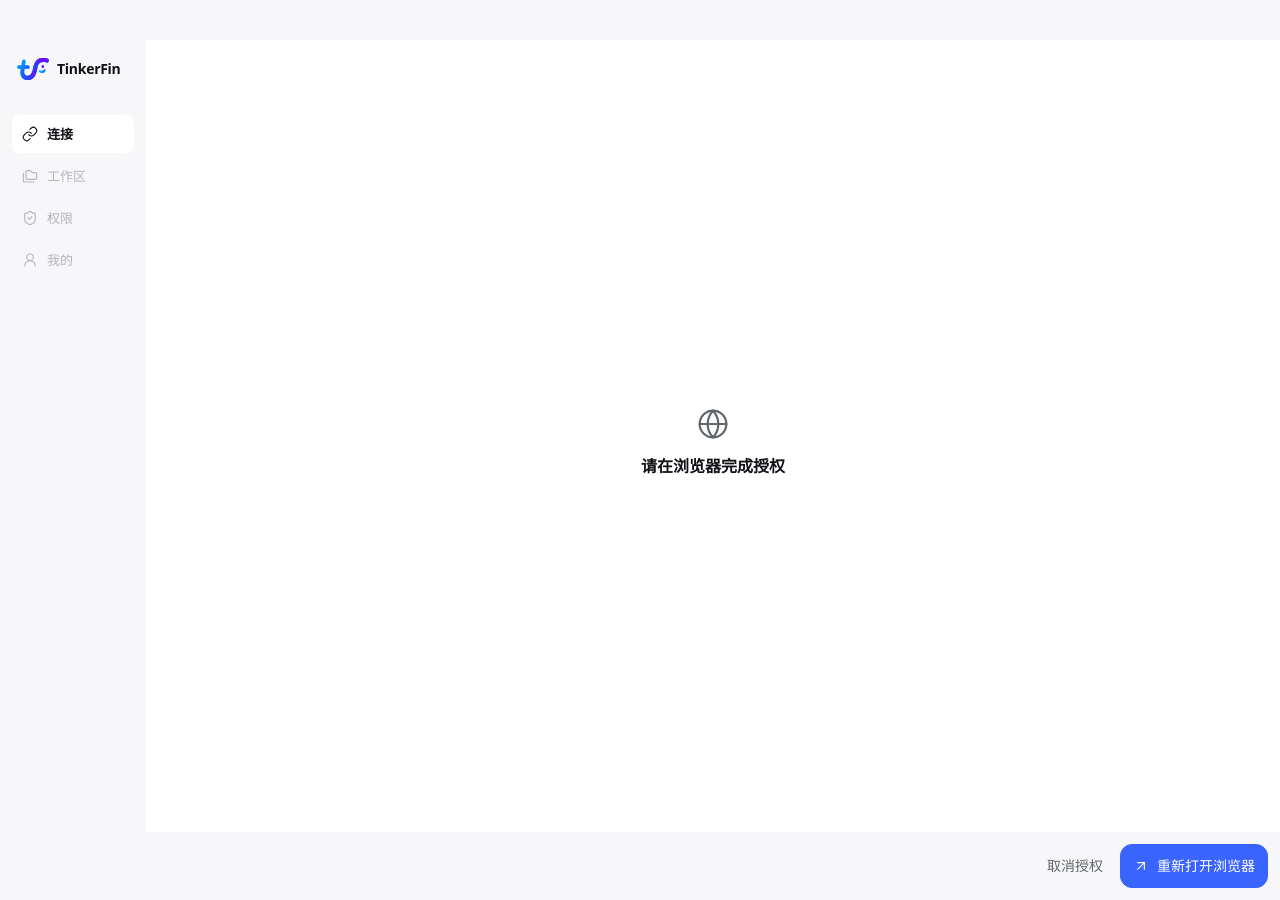
桌面真实动作边界 › 取消授权后返回连接表单并保留输入
This screenshot has width=1280, height=900.
Click the button "取消授权".
click(1075, 866)  # box [1038,844,1112,888]
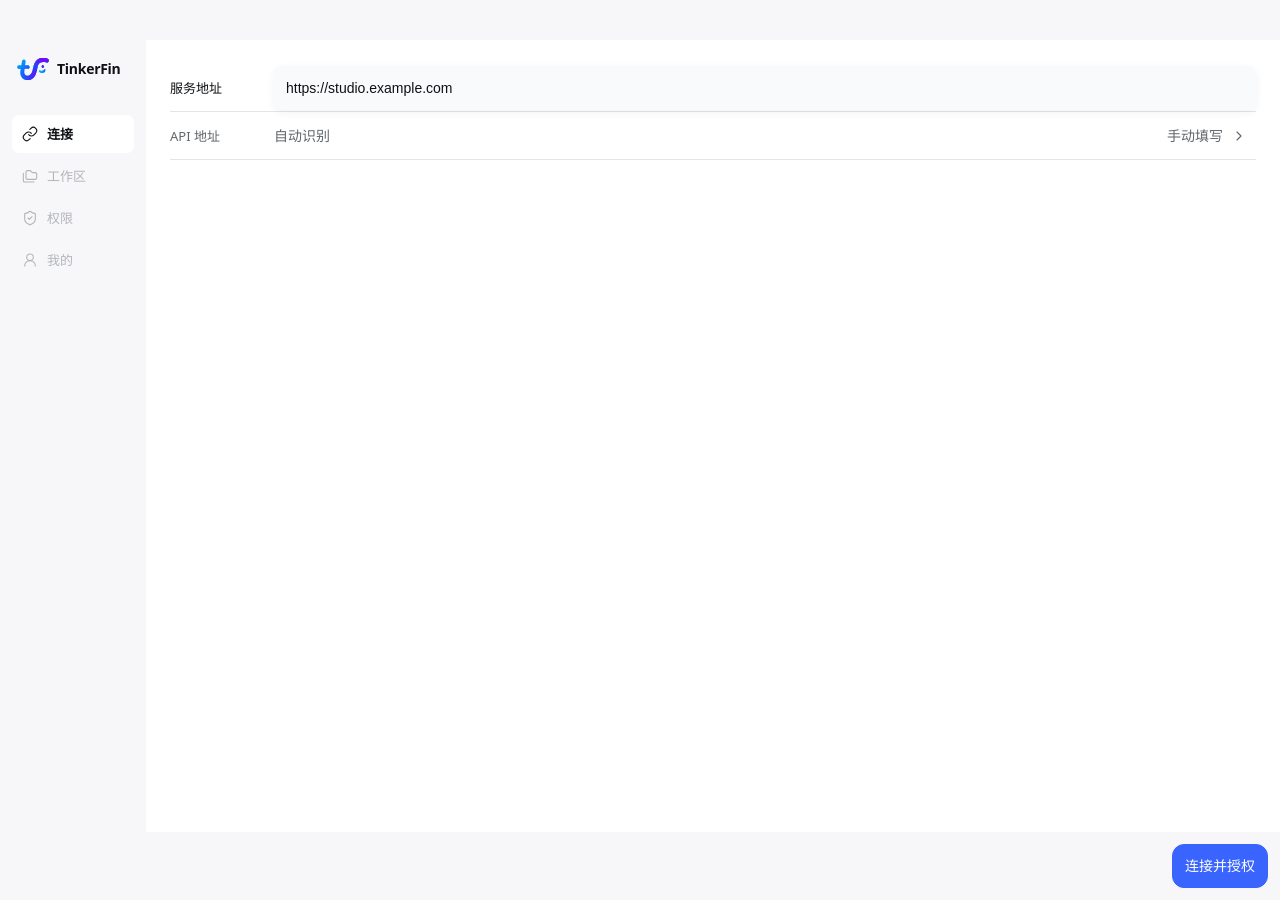
Now the field labelled "服务地址" holds "https://studio.example.com", box [286,66,1244,110]
